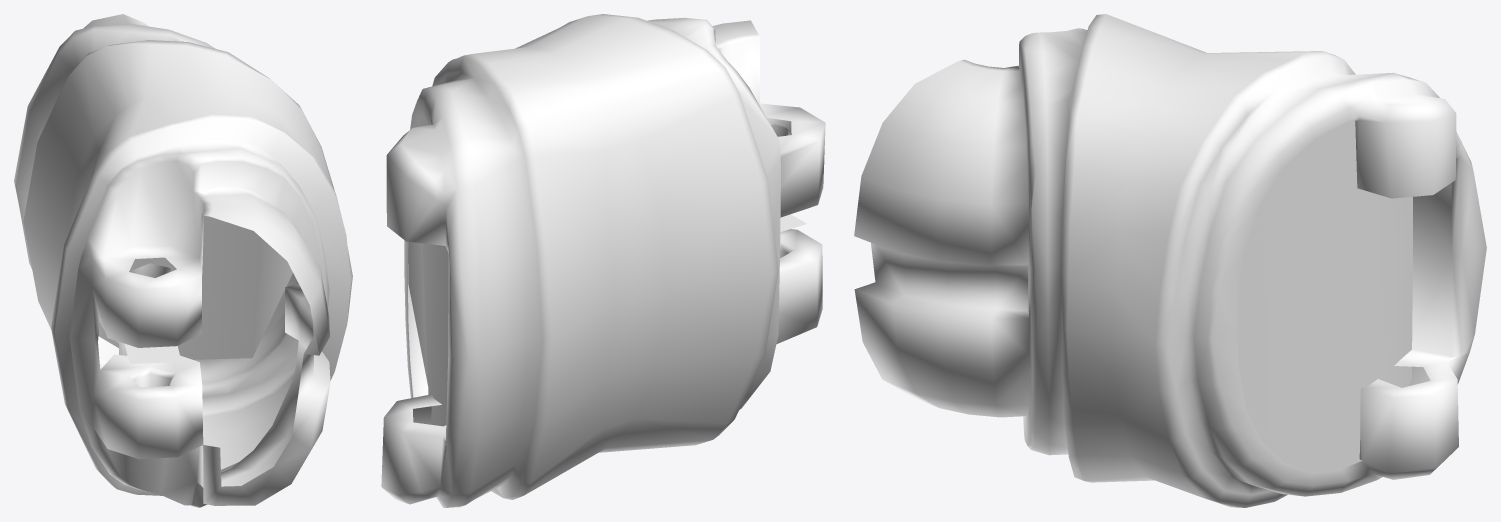
The model's file is LThumb1.dae.
3 views of the same model, side by side, from view 1: azimuth 30°, elevation 25°; view 2: azimuth 150°, elevation 25°; view 3: azimuth 270°, elevation 25° (orthographic). The views are drawn at different scales.
Parts seen in each view (by area): view 1: LThumb1; view 2: LThumb1; view 3: LThumb1.
Boxes of the visible parts, box(x1,y1,x2,y2) form: LThumb1: box(14, 14, 352, 507); LThumb1: box(381, 14, 825, 507); LThumb1: box(854, 14, 1486, 507).
Bounding box in the file's own units: 0.136 × 0.1591 × 0.2132.
Materials: 1 (1 with a texture image).
